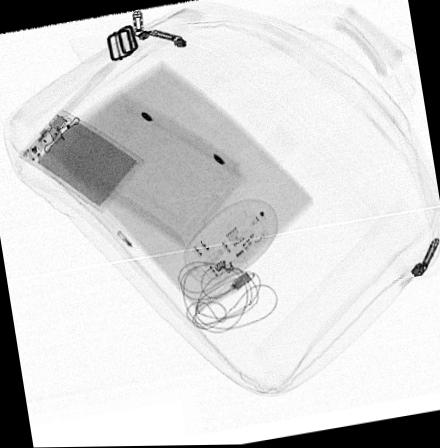Powerbank: (19, 107, 143, 212)
